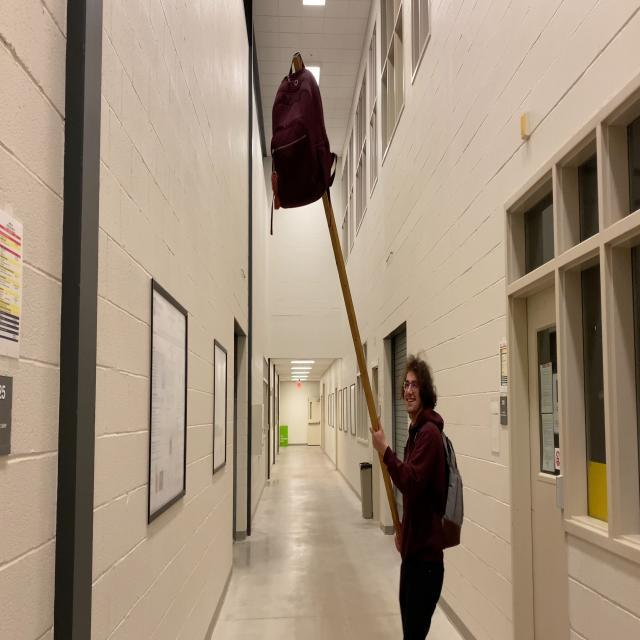Backpacks: (269, 68, 332, 210), (436, 424, 466, 554)
